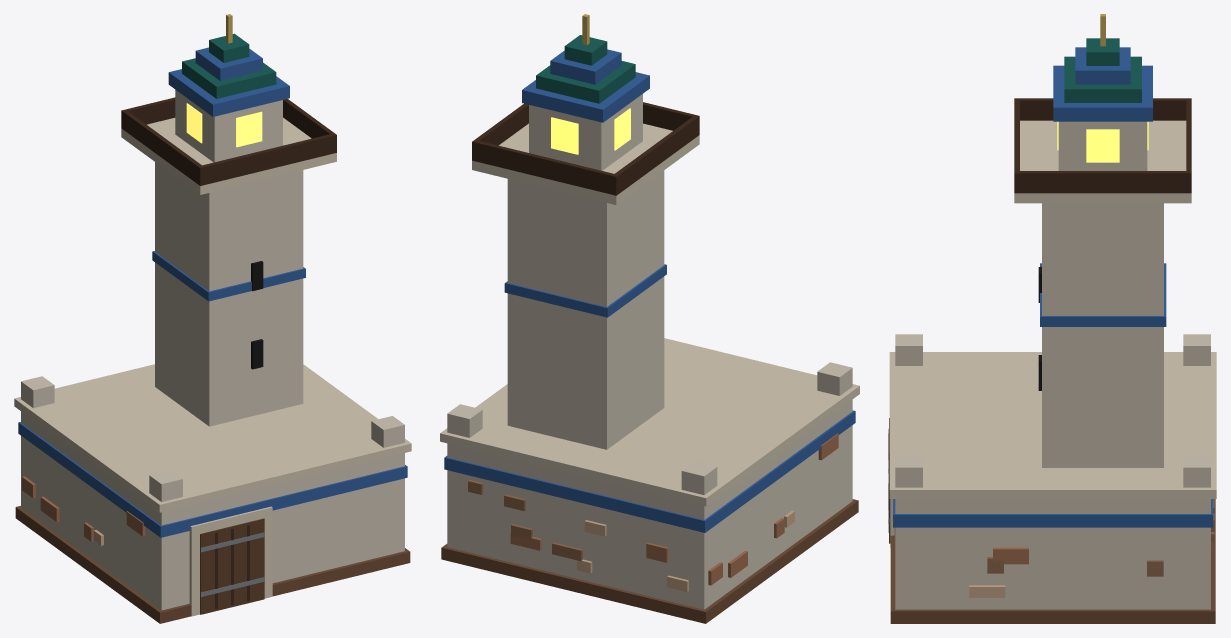
The model's file is dd_solid_minaret.glb.
3 renders of one model, left to right at view 1: azimuth 30°, elevation 25°; view 2: azimuth 150°, elevation 25°; view 3: azimuth 270°, elevation 25°, orthographic. The views are drawn at different scales.
Visible parts, largest first — view 1: DUBG_dd_solid_minaret; view 2: DUBG_dd_solid_minaret; view 3: DUBG_dd_solid_minaret.
Part boxes in pixels (x1,y1,x2,y2): DUBG_dd_solid_minaret: (14,14,411,623); DUBG_dd_solid_minaret: (440,14,859,623); DUBG_dd_solid_minaret: (888,14,1216,623).
Bounding box in the file's own units: 11.8 × 22.35 × 11.85.
